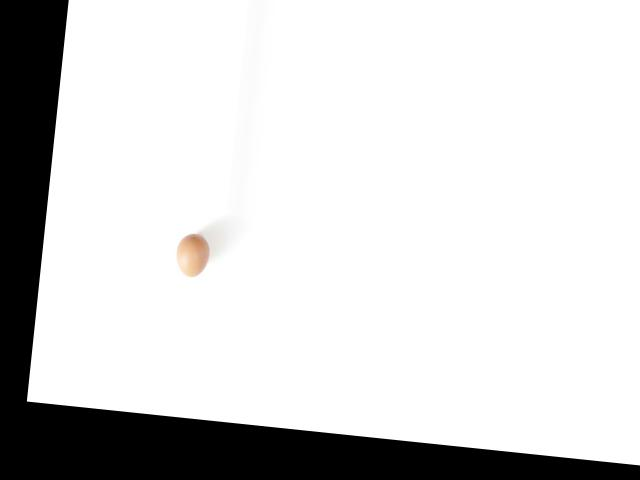egg: (174, 231, 210, 278)
